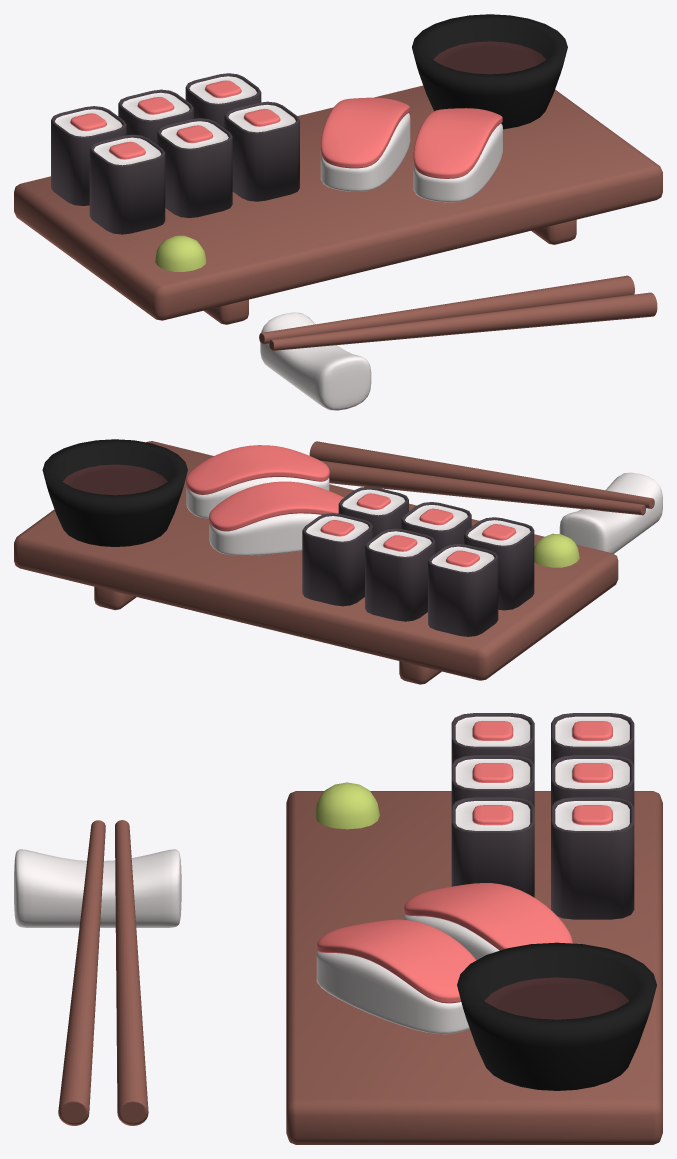
Rendered from sushi.glb.
The picture shows the model from 3 angles, top to bottom: view 1: azimuth 30°, elevation 25°; view 2: azimuth 150°, elevation 25°; view 3: azimuth 270°, elevation 25°; orthographic projection. The views are drawn at different scales.
Parts seen in each view (by area): view 1: board_0, roll_1, sushi_2, soy-sauce_6, sticks_4, stone_3, wasabi_5; view 2: board_0, roll_1, sushi_2, soy-sauce_6, sticks_4, stone_3, wasabi_5; view 3: board_0, roll_1, soy-sauce_6, sushi_2, sticks_4, stone_3, wasabi_5.
Boxes of the visible parts, x1,y1,x2,y2 form: board_0: (14,85,662,324); roll_1: (51,73,299,234); sushi_2: (320,97,502,202); soy-sauce_6: (412,14,567,129); sticks_4: (259,275,657,350); stone_3: (260,312,371,410); wasabi_5: (155,235,206,271); board_0: (14,441,618,684); roll_1: (302,486,534,636); sushi_2: (186,445,343,555); soy-sauce_6: (42,439,187,546); sticks_4: (309,441,654,515); stone_3: (559,472,662,553); wasabi_5: (534,533,579,567); board_0: (286,791,662,1144); roll_1: (451,713,634,919); soy-sauce_6: (457,942,656,1090); sushi_2: (316,883,572,1034); sticks_4: (58,820,148,1125); stone_3: (14,849,181,927); wasabi_5: (314,782,379,829).
Size of the model in its own units: 0.3 by 0.0762 by 0.2584.
